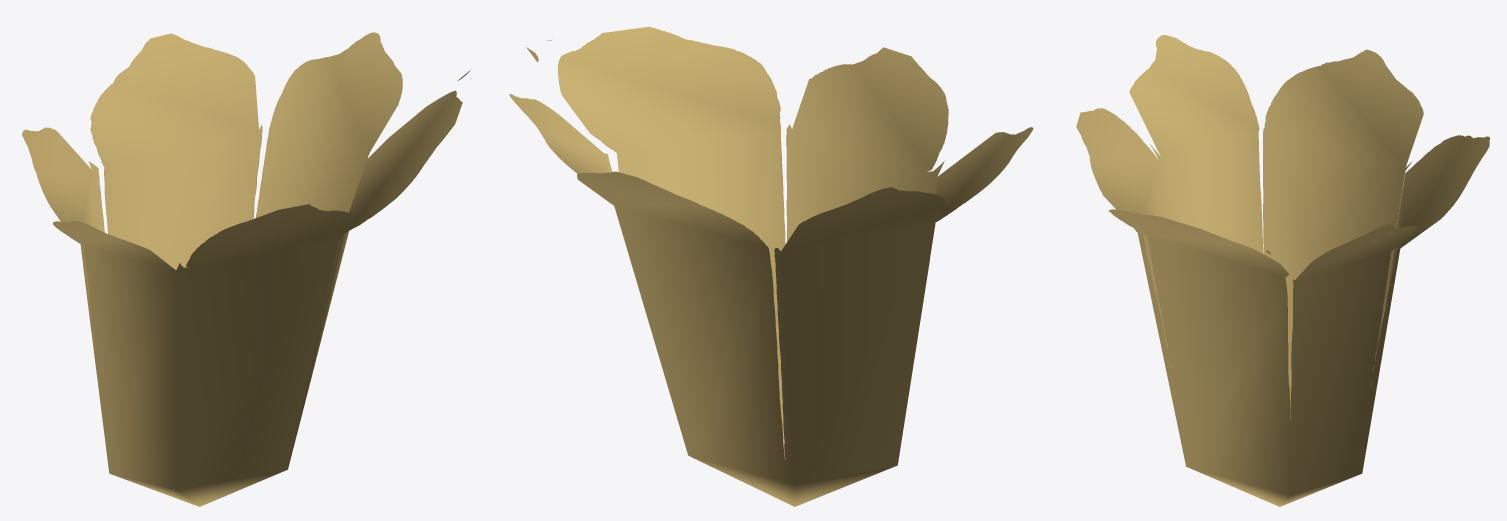
Rendered from Petal_4__go_village.glb.
3 views of the same model, side by side, from view 1: azimuth 30°, elevation 25°; view 2: azimuth 150°, elevation 25°; view 3: azimuth 270°, elevation 25° (orthographic). The views are drawn at different scales.
Parts seen in each view (by area): view 1: Petal_4; view 2: Petal_4; view 3: Petal_4.
Part boxes in pixels (x1,y1,x2,y2): Petal_4: [22, 32, 470, 506]; Petal_4: [509, 26, 1033, 506]; Petal_4: [1076, 35, 1489, 506].
Size of the model in its own units: 0.3291 by 0.2521 by 0.2445.
Materials: 1 (1 with a texture image).
